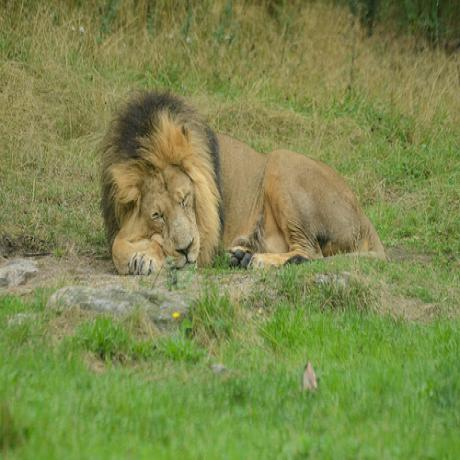Lion: (92, 72, 390, 280)
